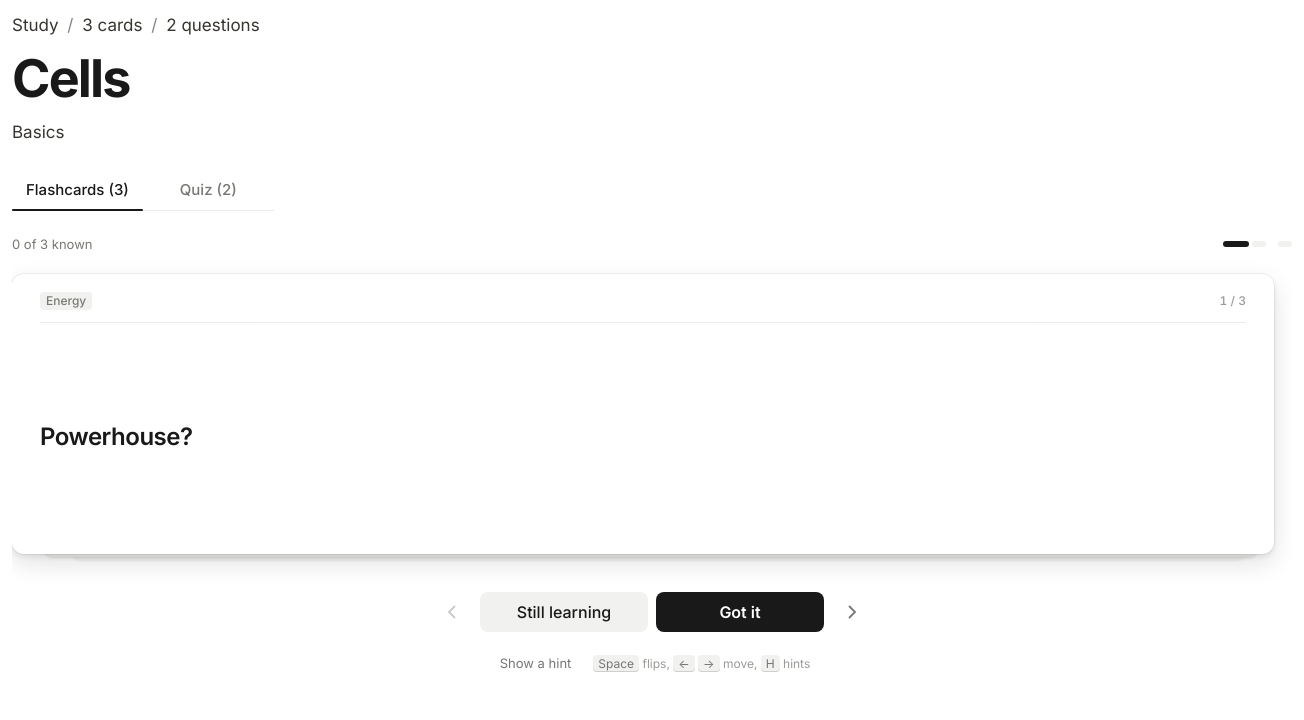
it: StudyView › shows a hint, flips to the answer with its detail, and marks the card known
Click the button "Show a hint". click: (536, 664)
box: top-left (494, 652), bottom-right (577, 676)
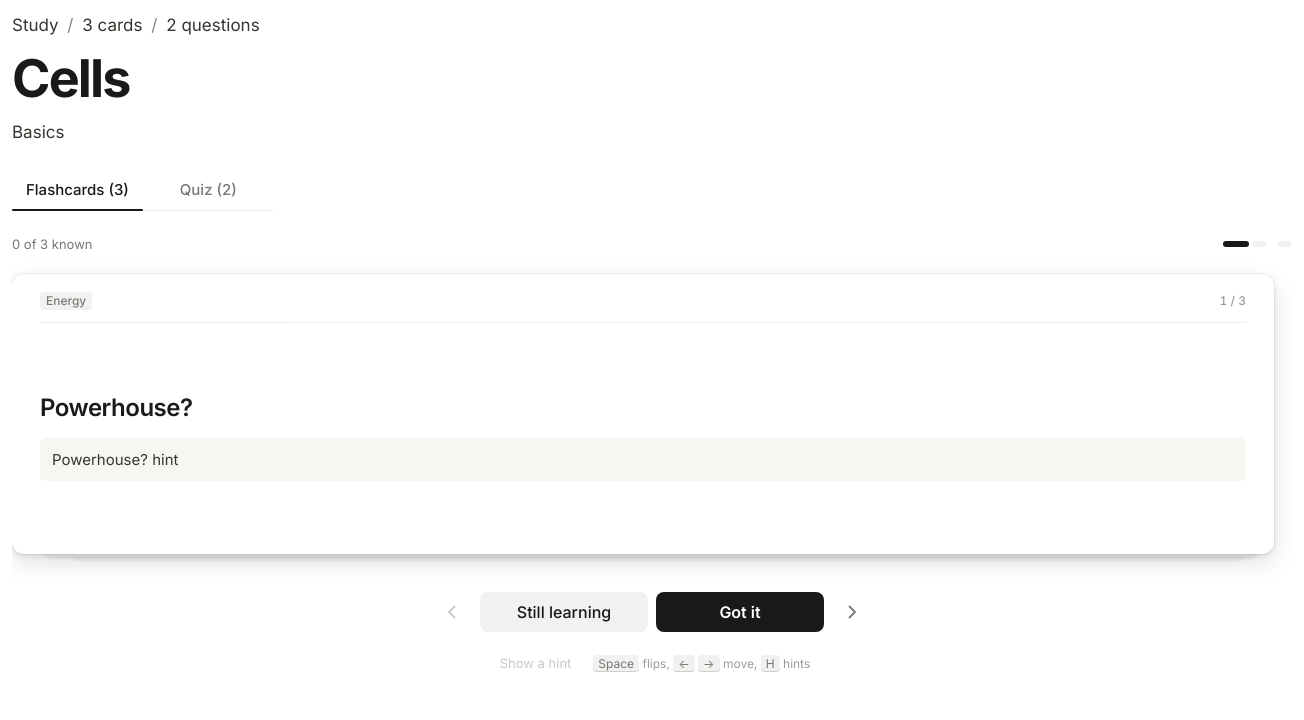
Result: the text "Powerhouse? hint" is shown at top-left (40, 438), bottom-right (1246, 481)
Click the button with aria-label "Question: Powerhouse?". click: (643, 414)
box: top-left (12, 274), bottom-right (1274, 554)
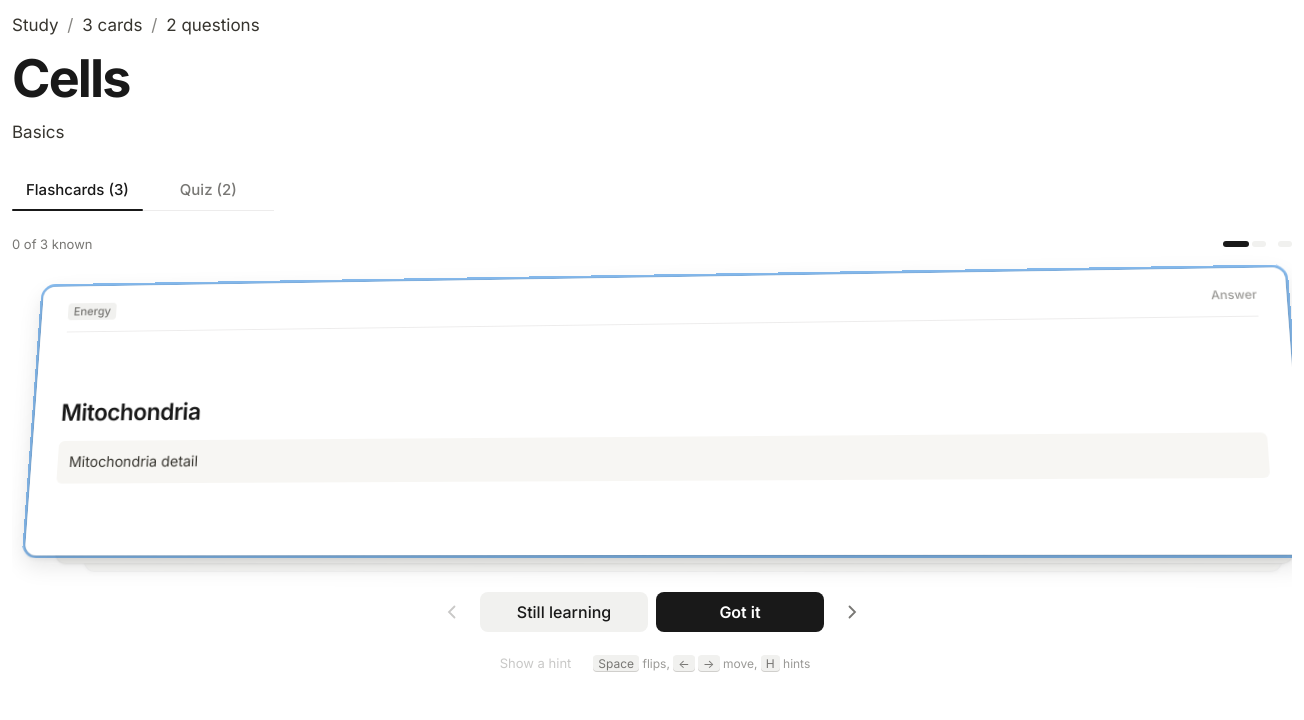
Expected: the text "Mitochondria detail" is shown, top-left (56, 433), bottom-right (1270, 483)
Click the button "Got it". click: (740, 612)
box: top-left (656, 592), bottom-right (824, 632)
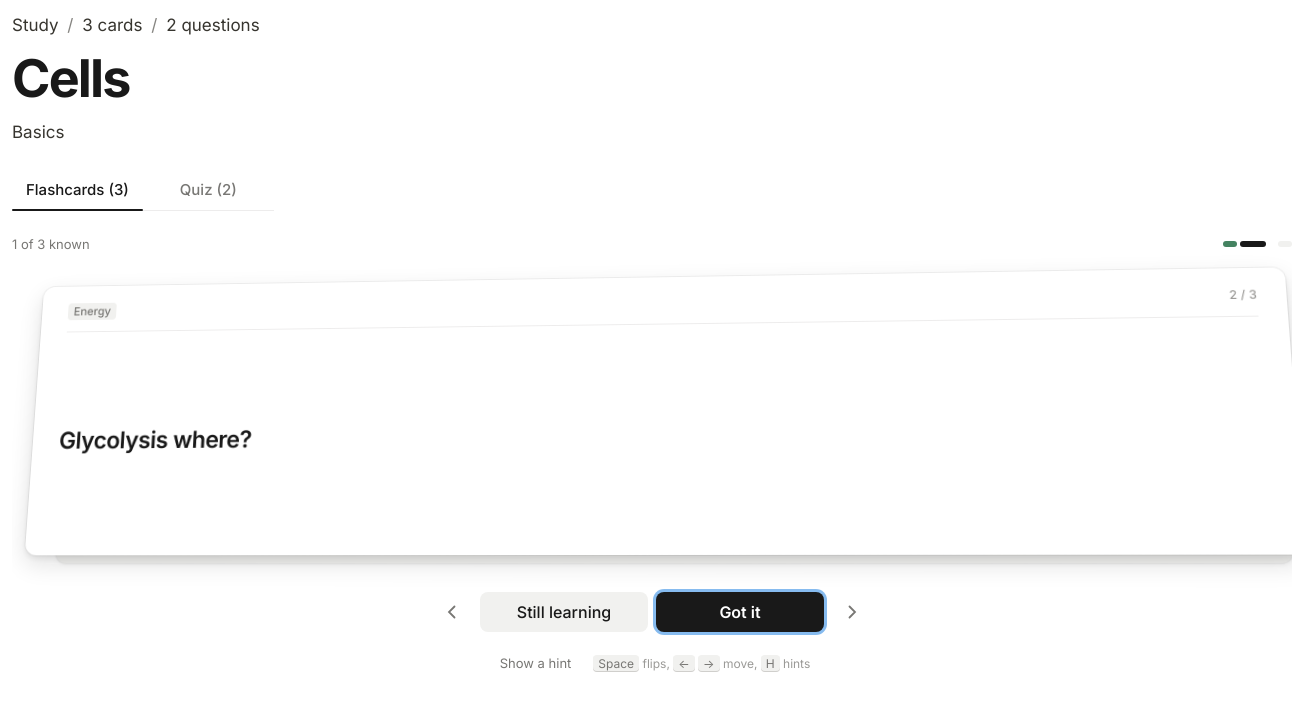
Result: the text "1 of 3 known" is shown at top-left (12, 234), bottom-right (90, 254)
